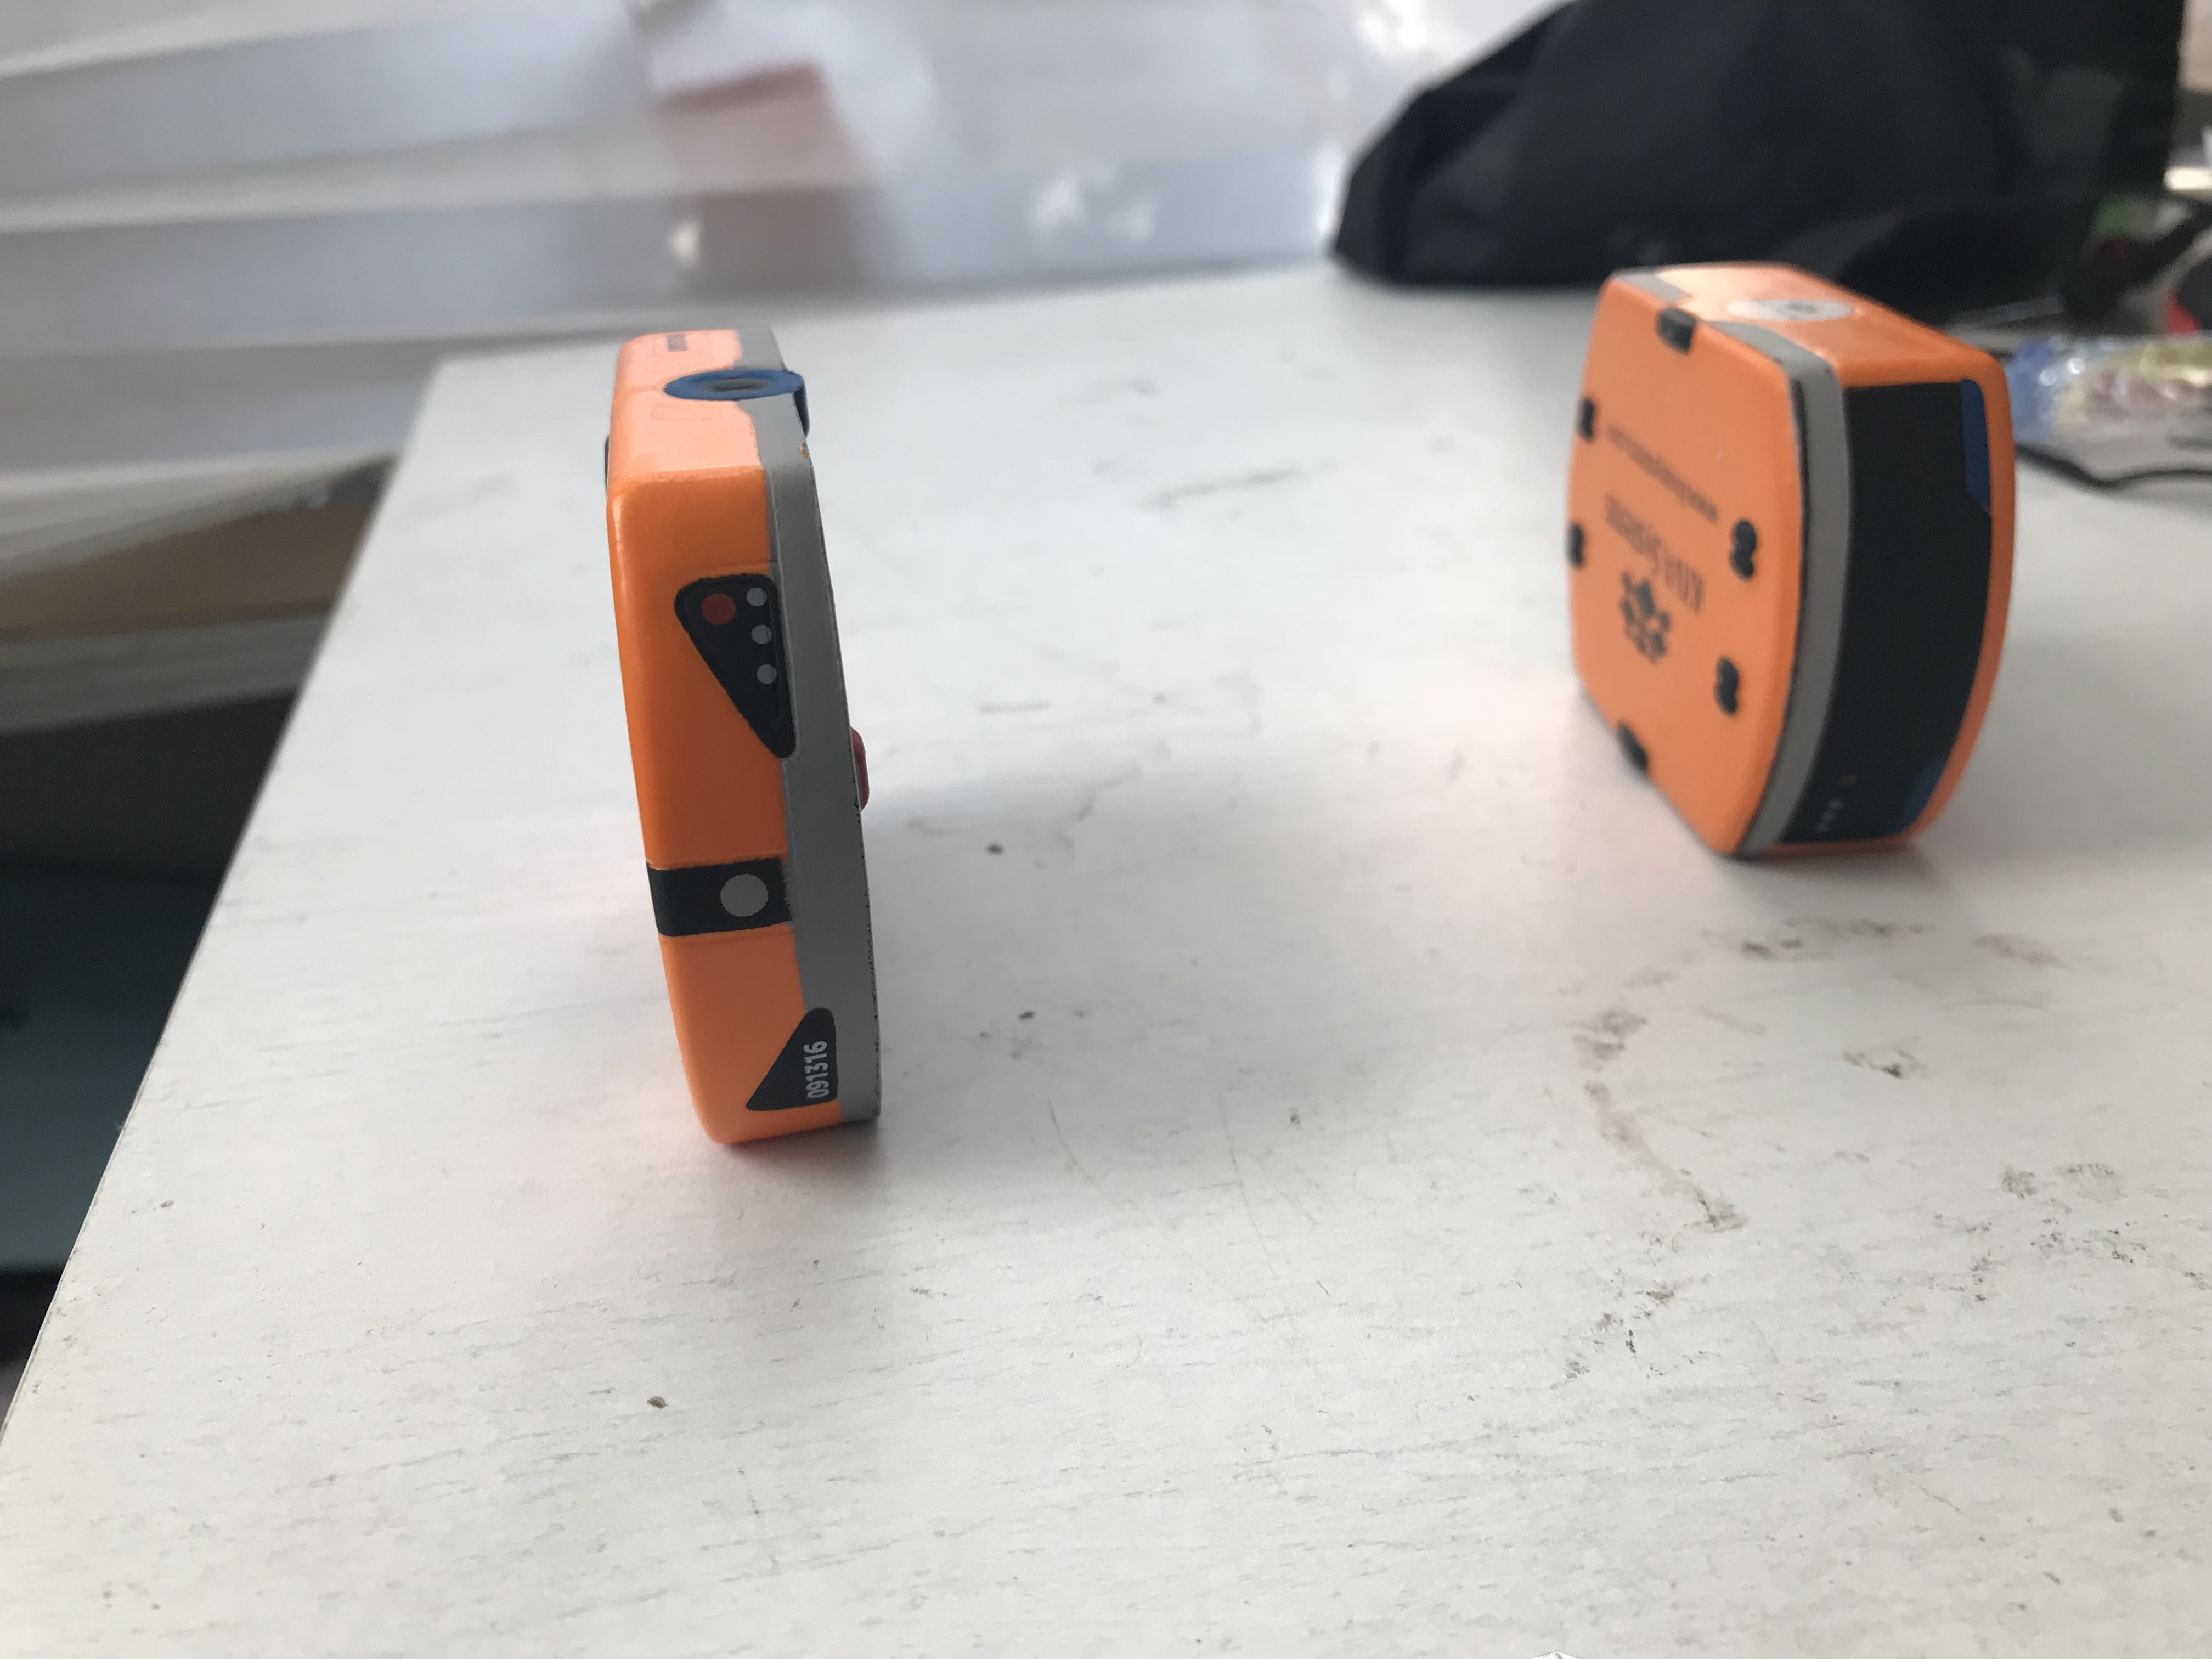amazon_bot: (1559, 258, 2034, 892), (590, 298, 909, 1176)
